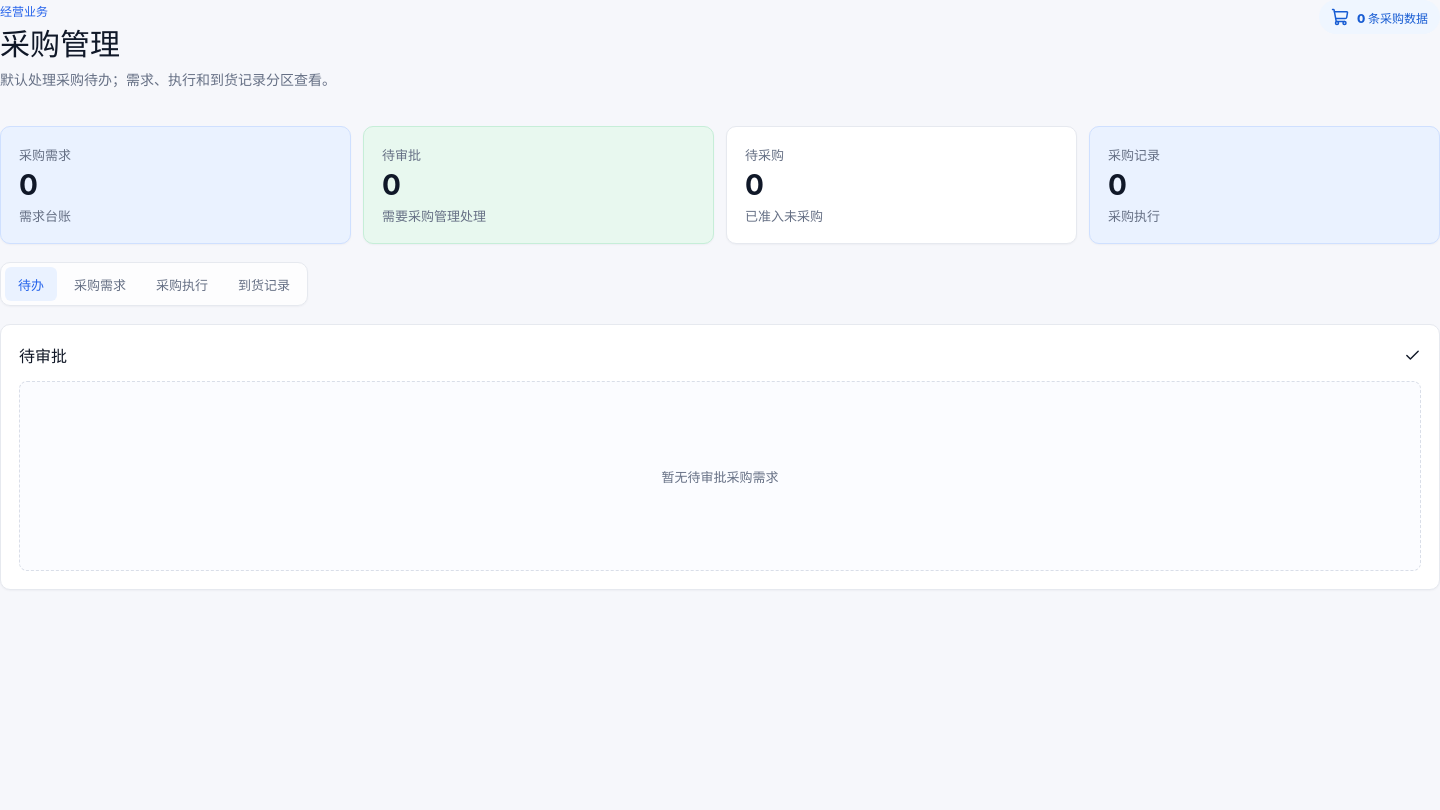
Company ERP workspace components › renders purchase request and purchase record workspace data
The width and height of the screenshot is (1440, 810).
Expected: the heading "采购管理" is shown, [0,26,120,62]
Expected: the text "采购需求" in the row of "待采购" is shown, [19,148,71,164]
Click the tab "采购需求".
click(100, 284)  # box [61,268,139,302]
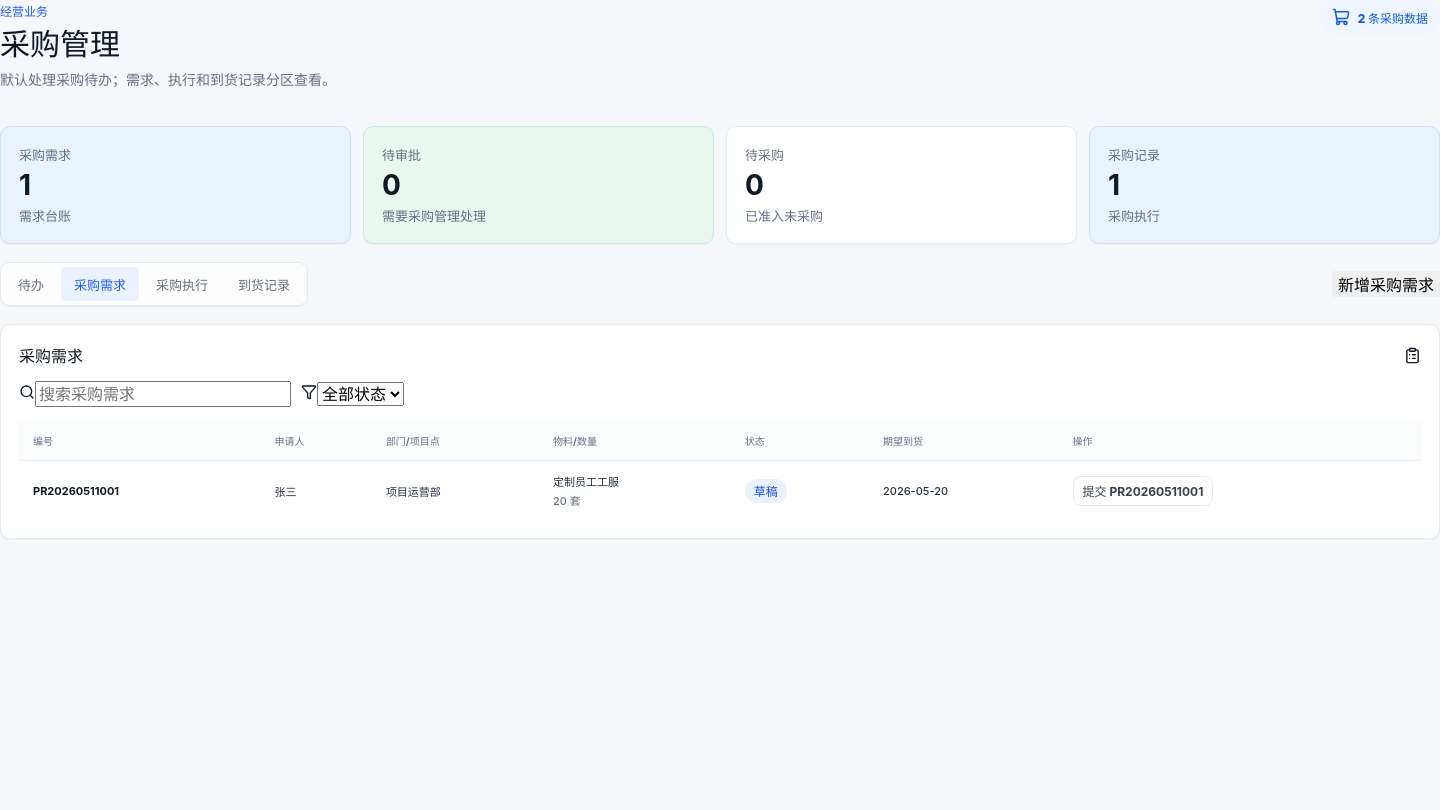
Expected: the text "库存补货建议" is not shown
Expected: the button "新增采购需求" is shown, [1332,272,1439,298]
Expected: the text "PR20260511001" is shown
Click the text "PR20260511001".
click(142, 491)  # box [19,461,264,520]
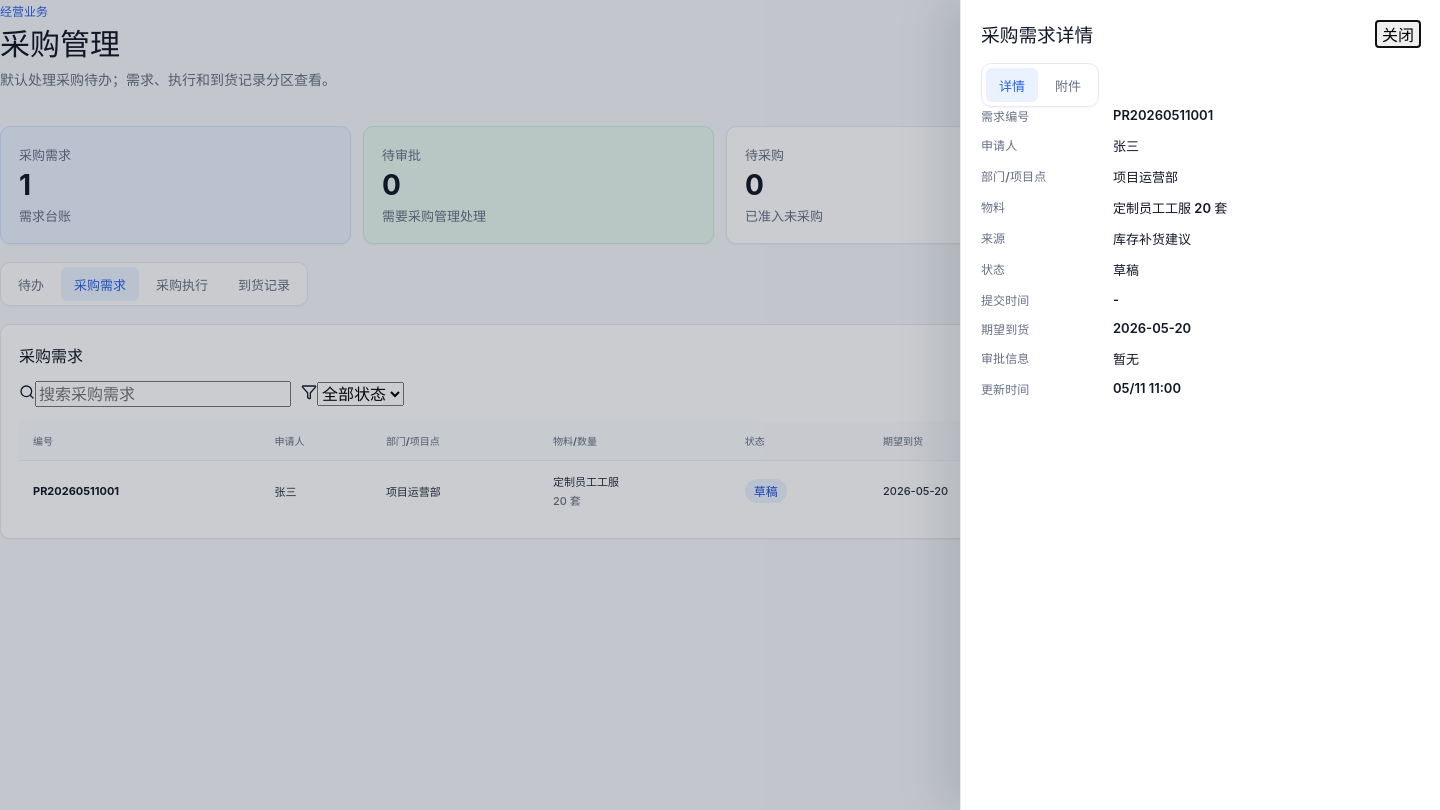
Expected: the text "库存补货建议" is shown, [1113,231,1191,247]
Click the button "关闭".
click(1398, 34)  # box [1376,20,1420,46]
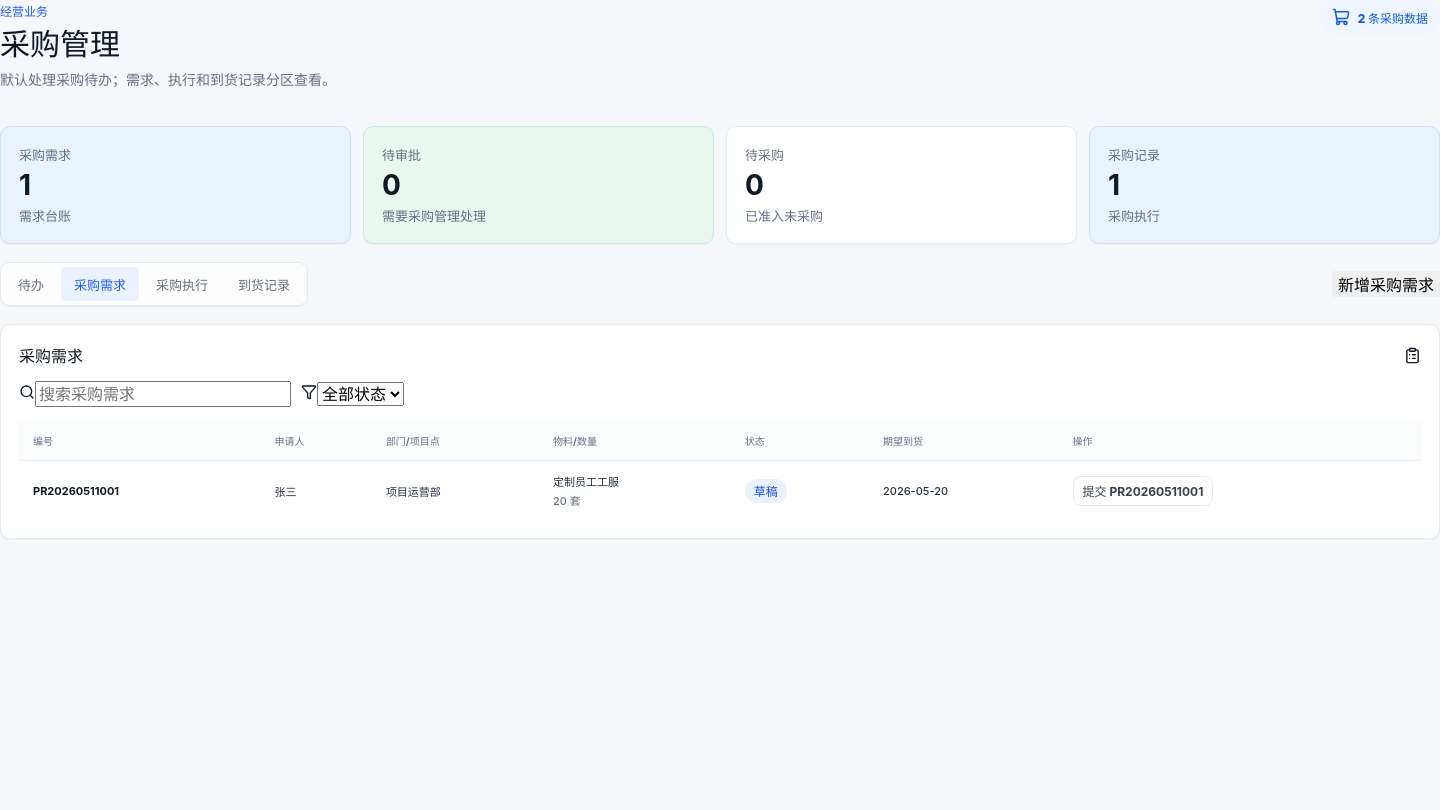
Click the tab "采购执行".
click(182, 284)  # box [143,268,221,302]
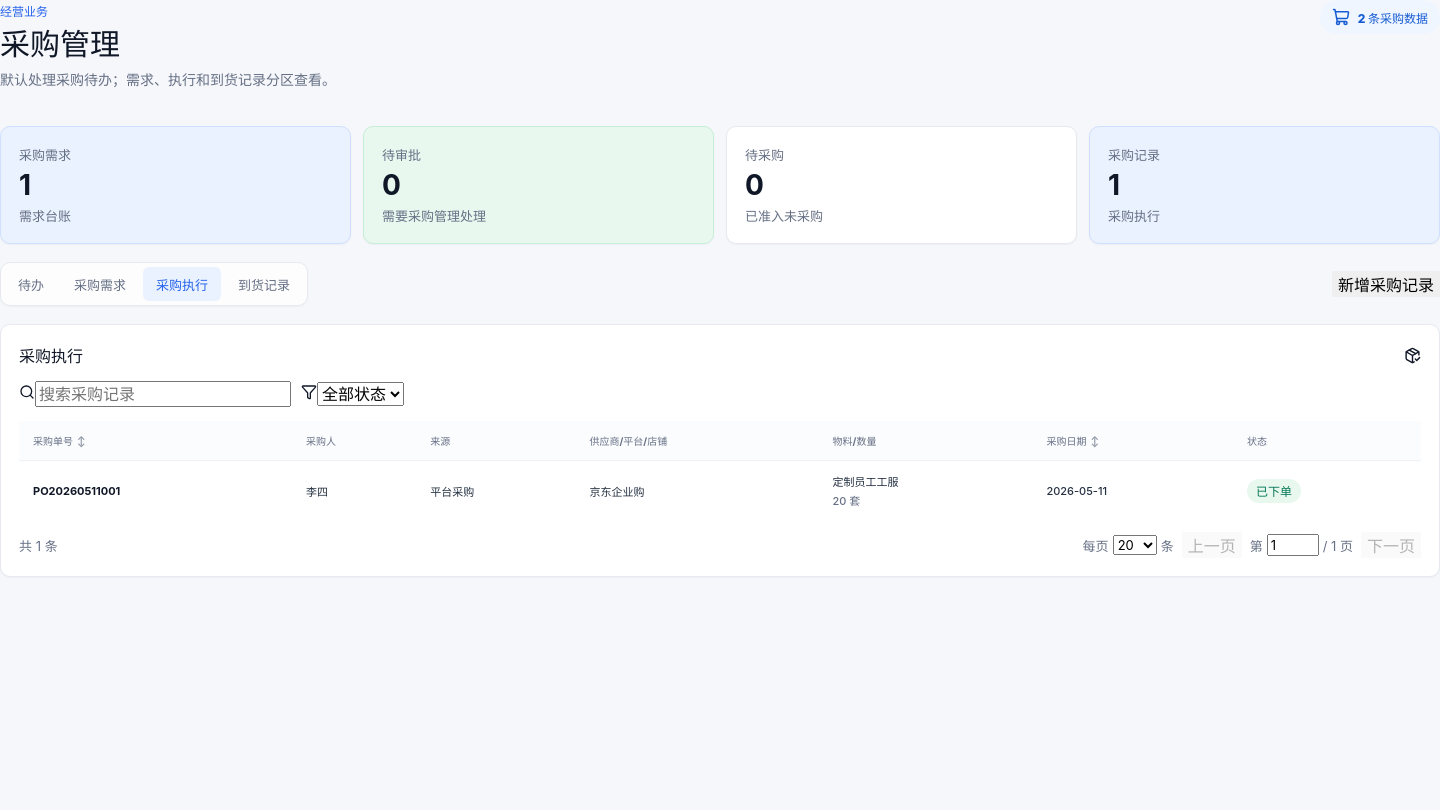
Expected: the text "HT20260511001 无锡项目点服务合同" is not shown
Expected: the button "新增采购记录" is shown, [1332,272,1439,298]
Expected: the text "PO20260511001" is shown
Click the text "PO20260511001".
click(157, 491)  # box [19,461,296,520]
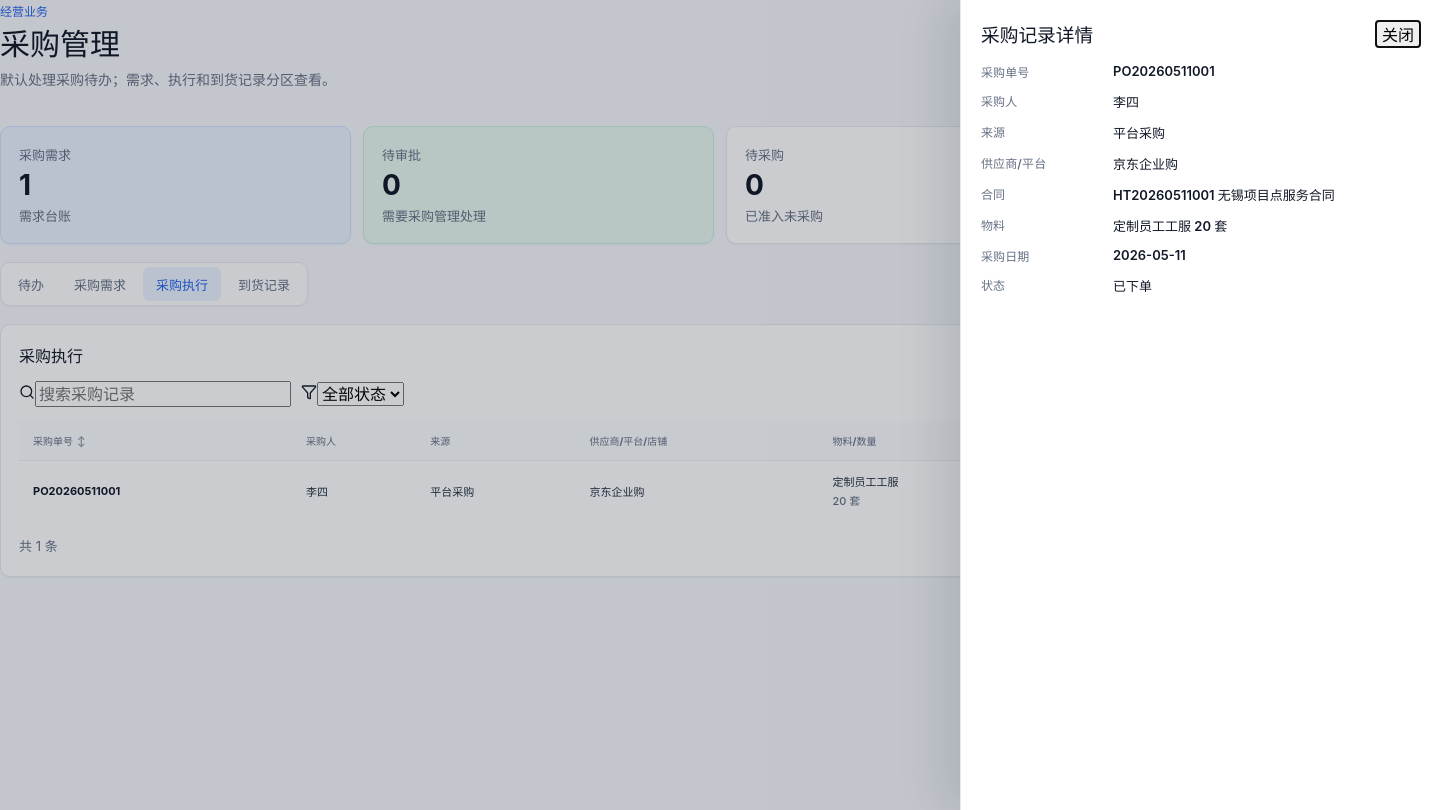
Expected: the text "定制员工工服" is shown, [832,476,898,490]
Expected: the text "京东企业购" is shown, [579,461,822,520]
Expected: the text "HT20260511001 无锡项目点服务合同" is shown, [1113,187,1335,203]
